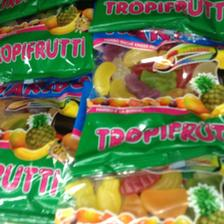Suessigkeit: (73, 22, 223, 162), (0, 70, 96, 212), (48, 150, 224, 222)
